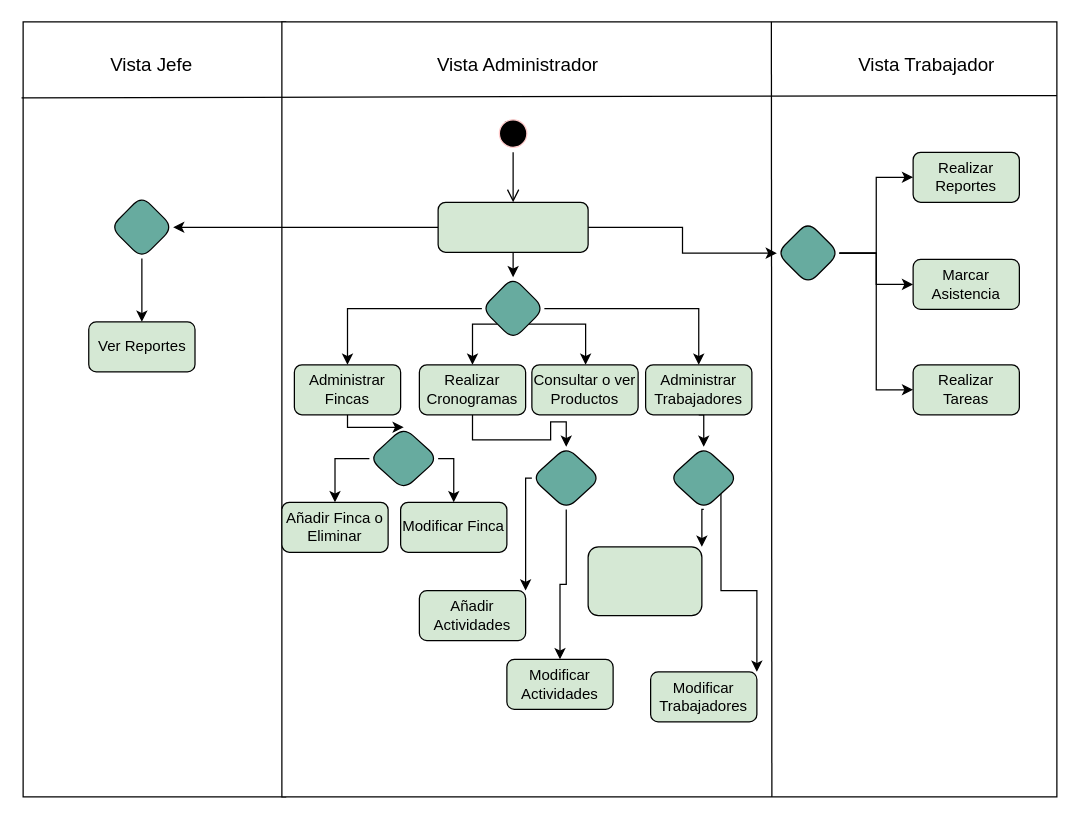
The diagram is 1081 pixels wide and 820 high, and some of its shapes have lost their labels. Each missing label, with the centre of its shape:
Añadir o Eliminar Trabajadores: pixel 644 581
Inicio de Sesión: pixel 512 226
